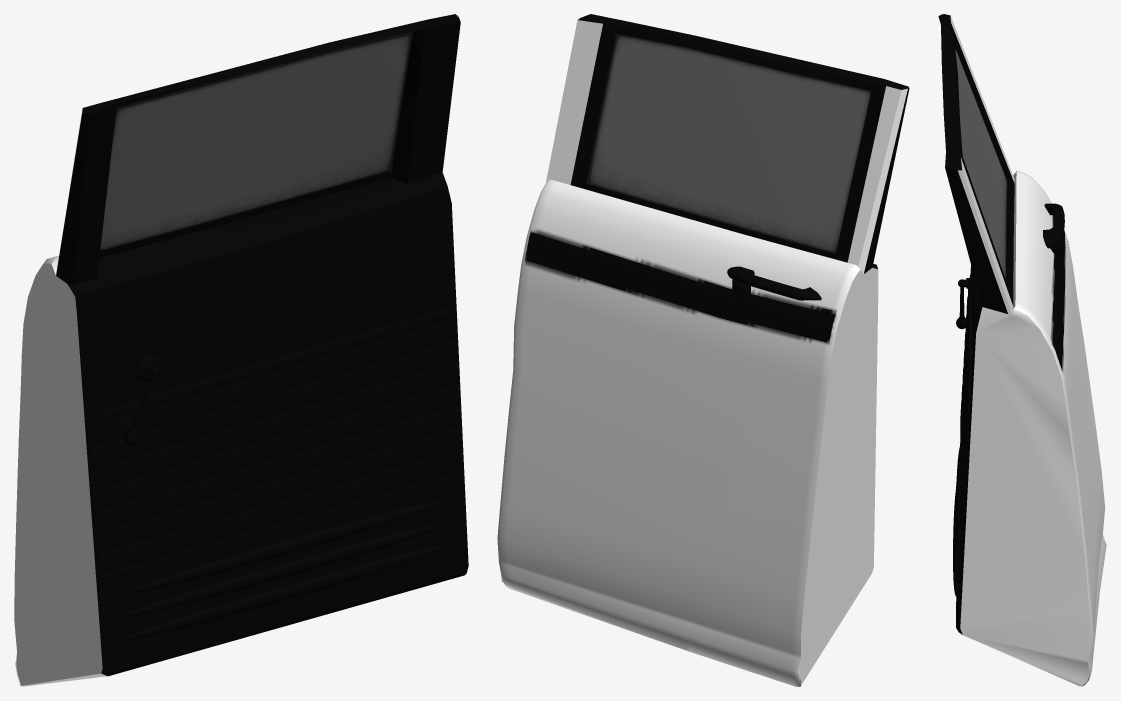
3 renders of one model, left to right at view 1: azimuth 30°, elevation 25°; view 2: azimuth 150°, elevation 25°; view 3: azimuth 270°, elevation 25°, orthographic. The views are drawn at different scales.
Visible parts, largest first — view 1: SM_CR03_RD_R_01_LOD0; view 2: SM_CR03_RD_R_01_LOD0; view 3: SM_CR03_RD_R_01_LOD0.
Boxes of the visible parts, x1,y1,x2,y2 form: SM_CR03_RD_R_01_LOD0: (14,14,468,686); SM_CR03_RD_R_01_LOD0: (497,14,909,686); SM_CR03_RD_R_01_LOD0: (938,14,1106,686).
Bounding box in the file's own units: 78.04 × 34.62 × 122.
3 materials, 3 textured.
